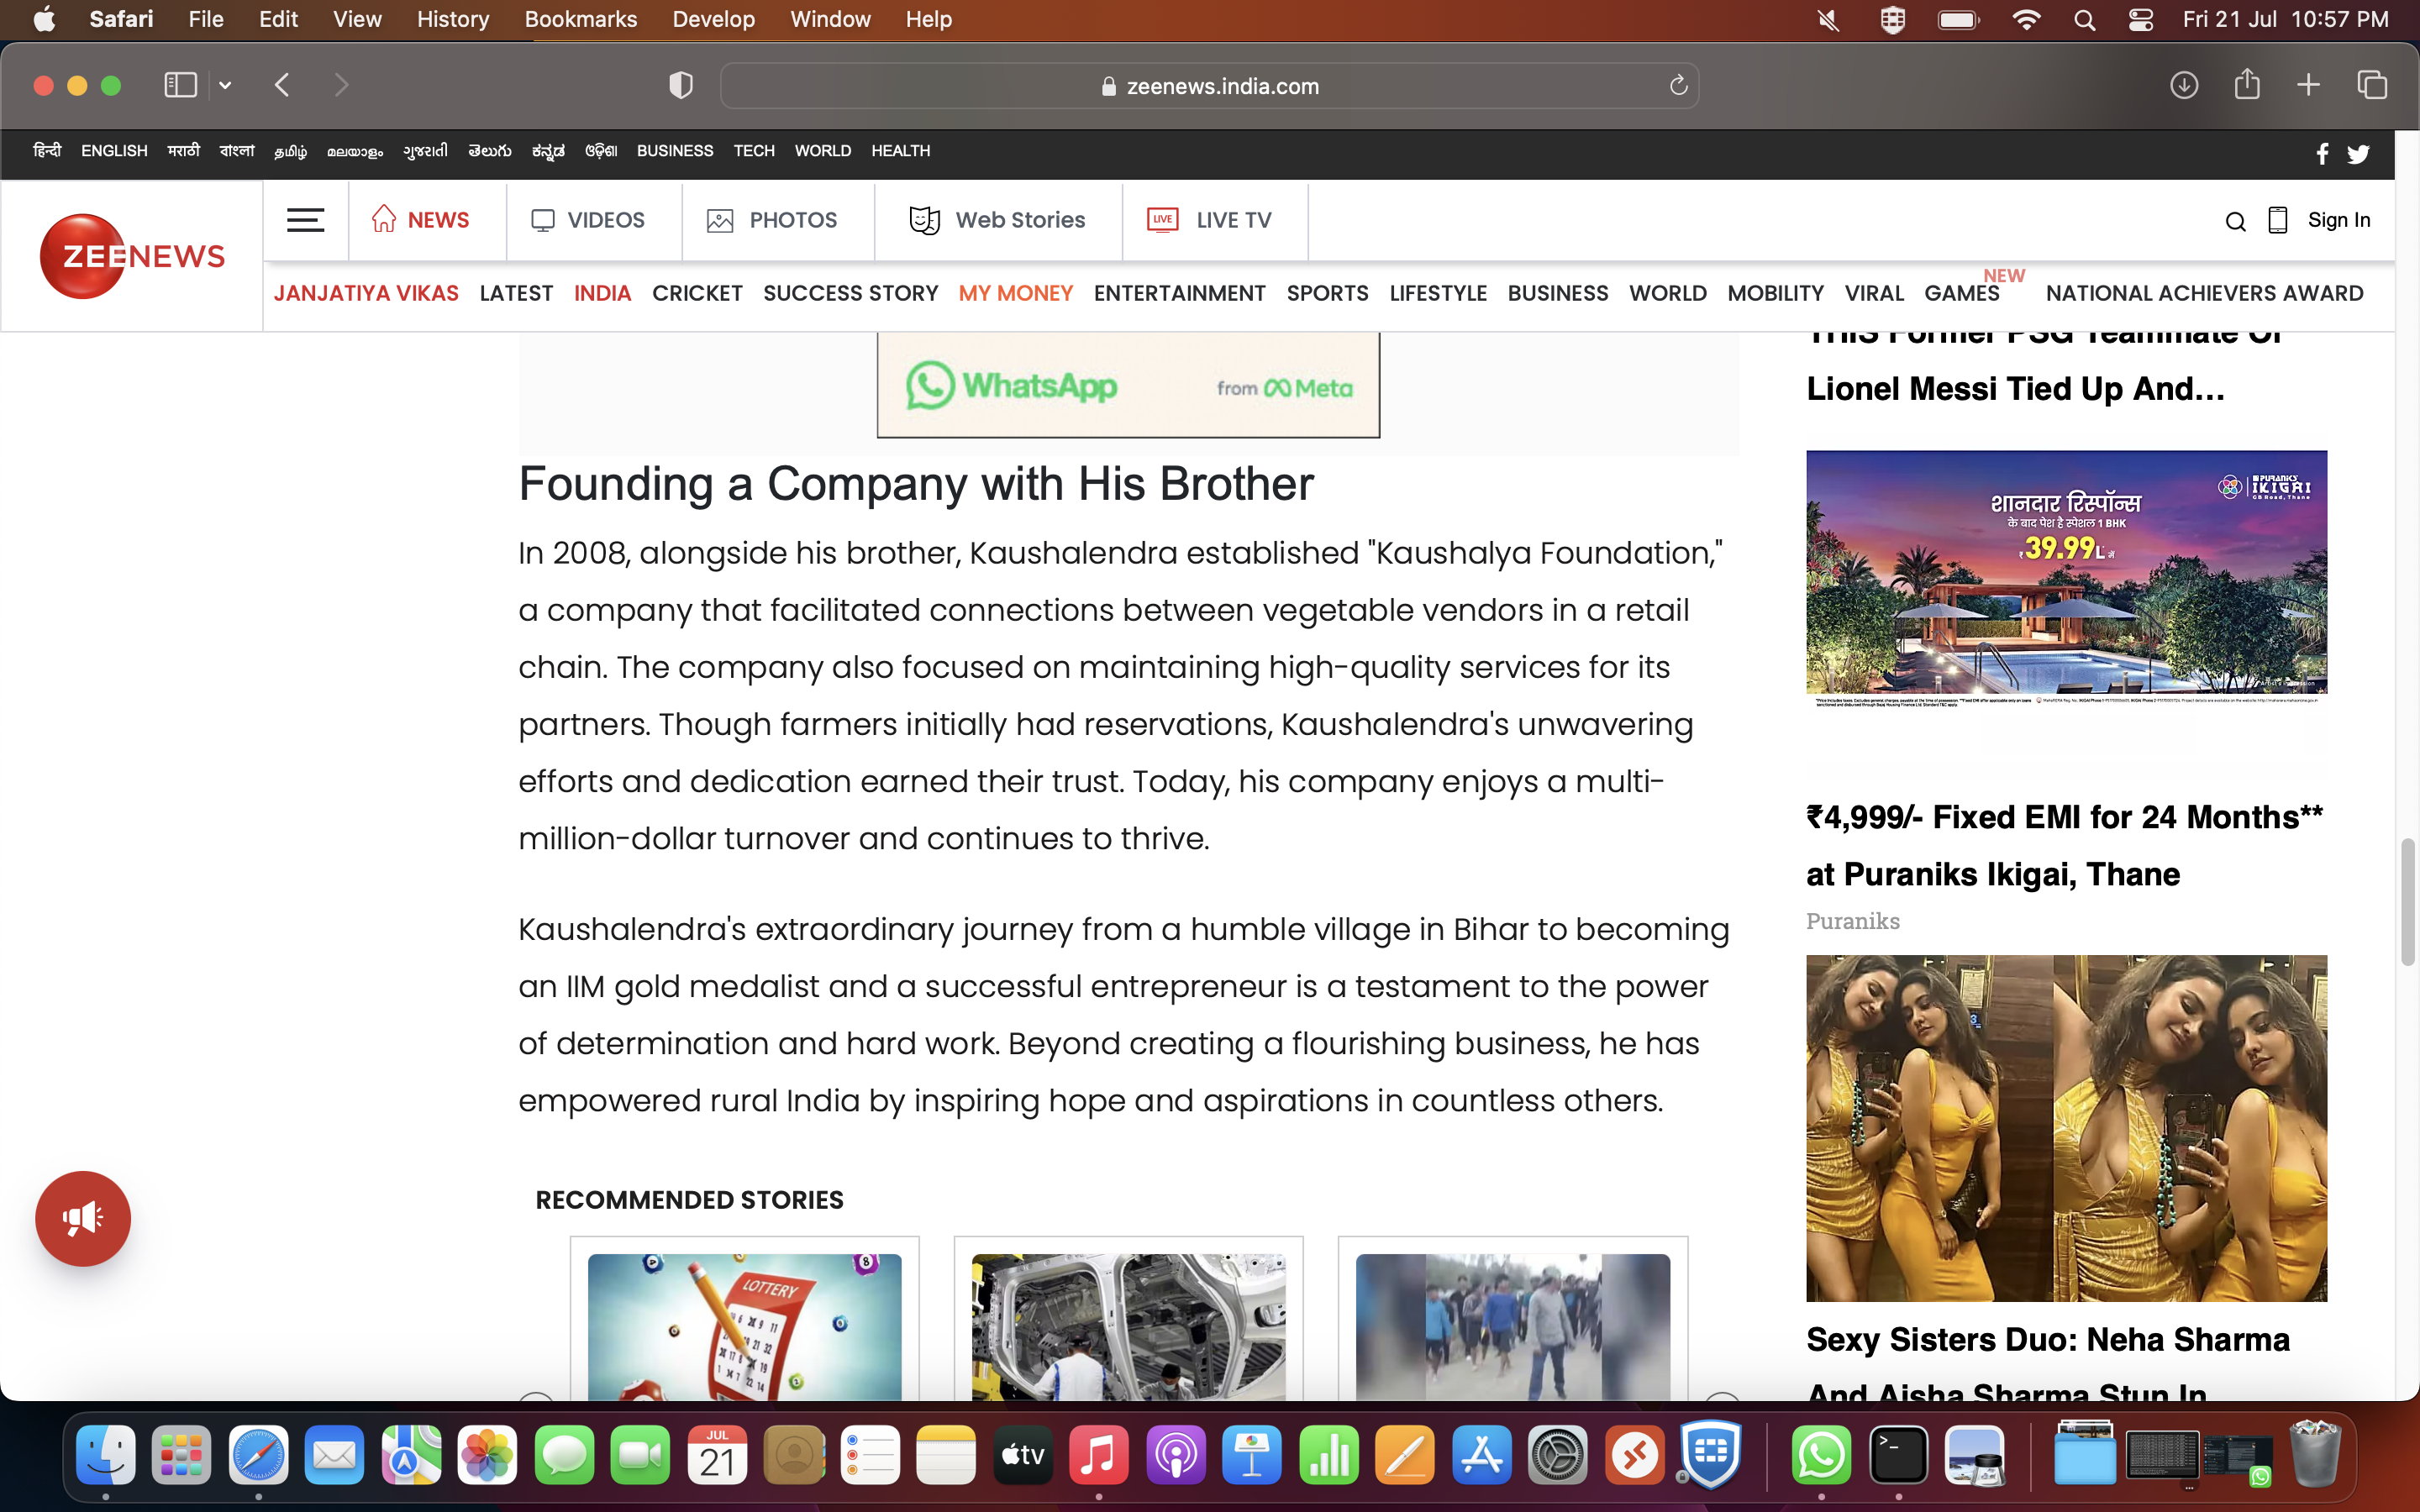Image: (1798, 960, 2326, 1310), (1817, 456, 2340, 709), (889, 322, 1389, 439), (970, 1254, 1286, 1409), (591, 1251, 902, 1392), (1362, 1261, 1671, 1395)
Paragraph: (500, 524, 1732, 874), (507, 899, 1732, 1129), (1795, 775, 2326, 942), (500, 439, 1324, 503), (1810, 1324, 2308, 1416), (514, 1172, 854, 1228), (1807, 378, 2223, 422), (254, 258, 460, 319), (953, 265, 1087, 329), (758, 261, 939, 308), (470, 258, 570, 322), (655, 265, 730, 315), (577, 261, 638, 315)
